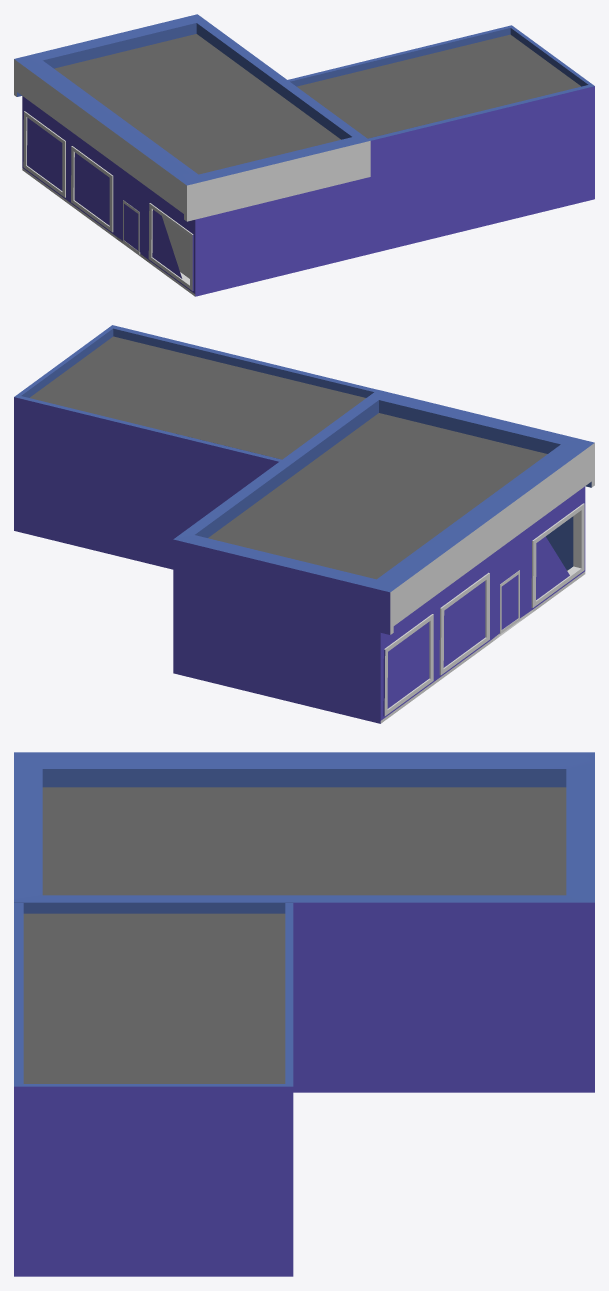
Rendered from Convenience Store.fbx.
3 renders of one model, top to bottom at view 1: azimuth 30°, elevation 25°; view 2: azimuth 150°, elevation 25°; view 3: azimuth 270°, elevation 25°, orthographic. The views are drawn at different scales.
Parts seen in each view (by area): view 1: Cube; view 2: Cube; view 3: Cube.
Part boxes in pixels (x1,y1,x2,y2): Cube: [14, 14, 594, 296]; Cube: [14, 325, 594, 723]; Cube: [14, 752, 594, 1276].
Bounding box in the file's own units: 958 × 254 × 703.
